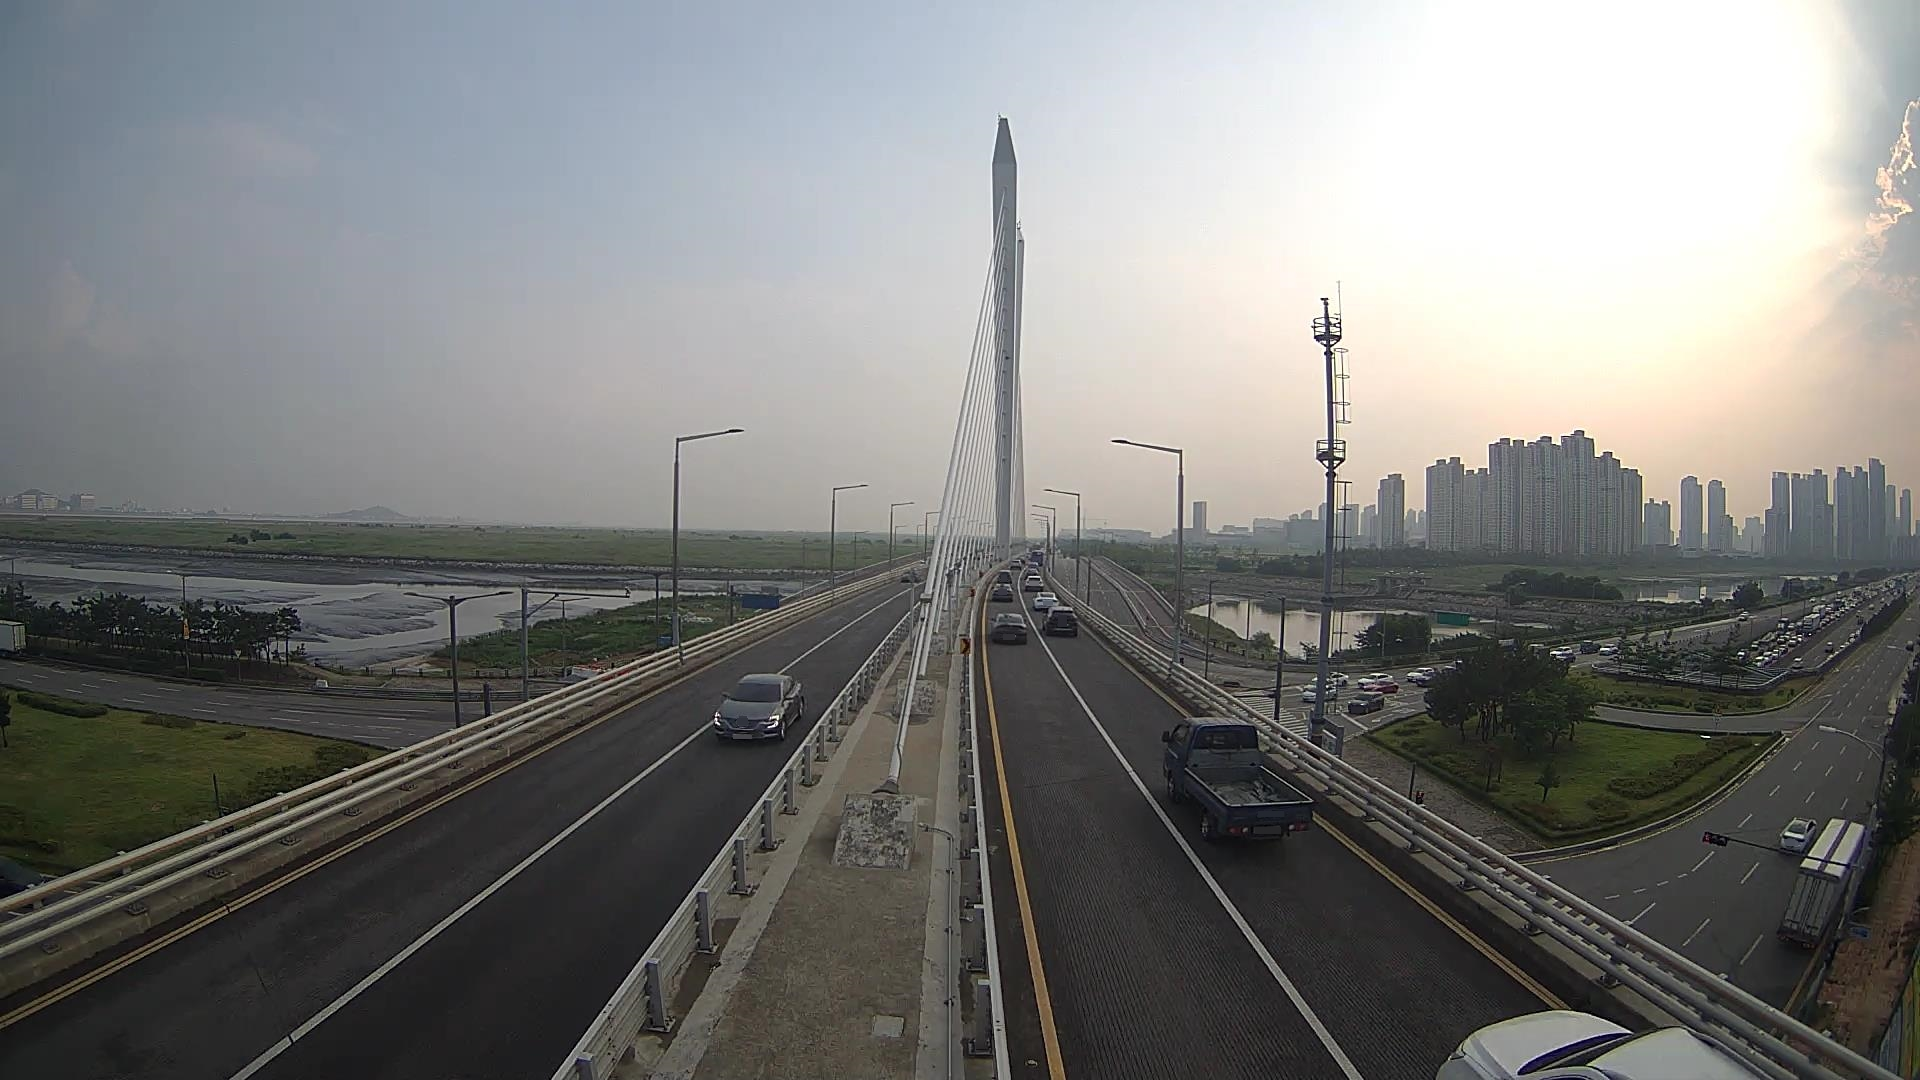정상차량: (1160, 716, 1315, 844)
